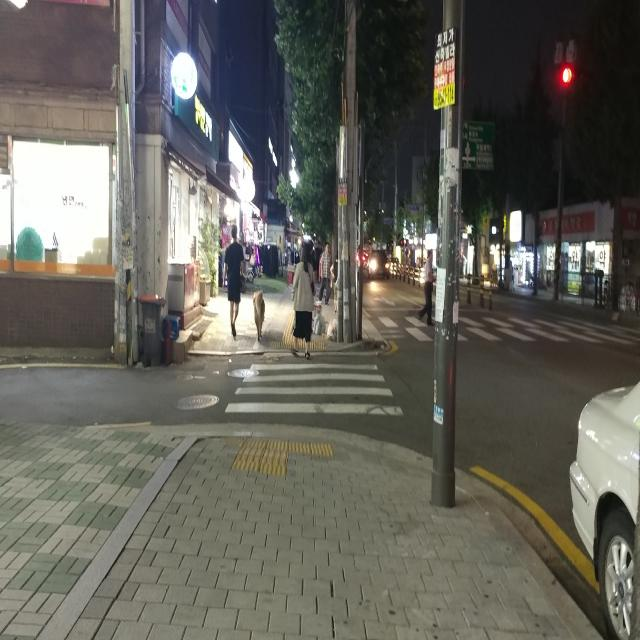횡단보도: (225, 364, 404, 416), (388, 316, 636, 344)
